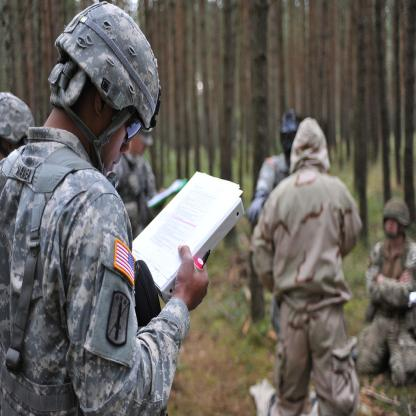Helmet: (48, 8, 153, 169), (0, 92, 35, 142), (382, 200, 412, 241), (281, 110, 298, 175), (143, 116, 155, 149)
